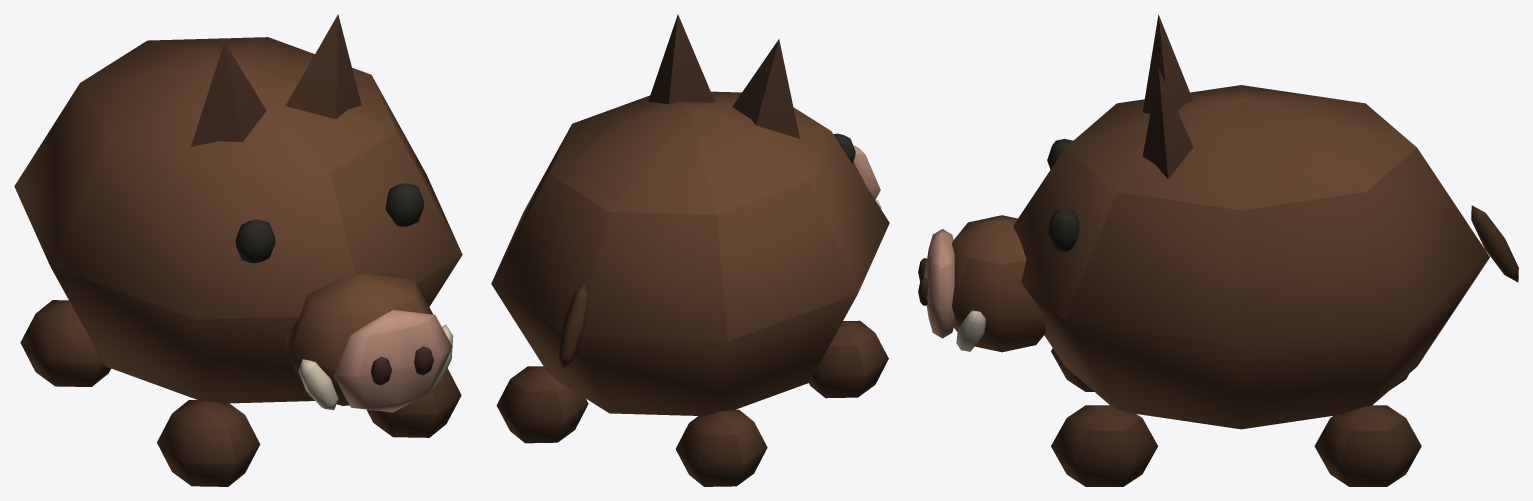
File: Boar.glb
3 renders of one model, left to right at view 1: azimuth 30°, elevation 25°; view 2: azimuth 150°, elevation 25°; view 3: azimuth 270°, elevation 25°, orthographic. The views are drawn at different scales.
Parts seen in each view (by area): view 1: Boar; view 2: Boar; view 3: Boar.
Part boxes in pixels (x1,y1,x2,y2): Boar: (14,14,462,486); Boar: (491,14,889,486); Boar: (918,14,1518,486).
Bounding box in the file's own units: 0.43 × 0.4496 × 0.6154.
